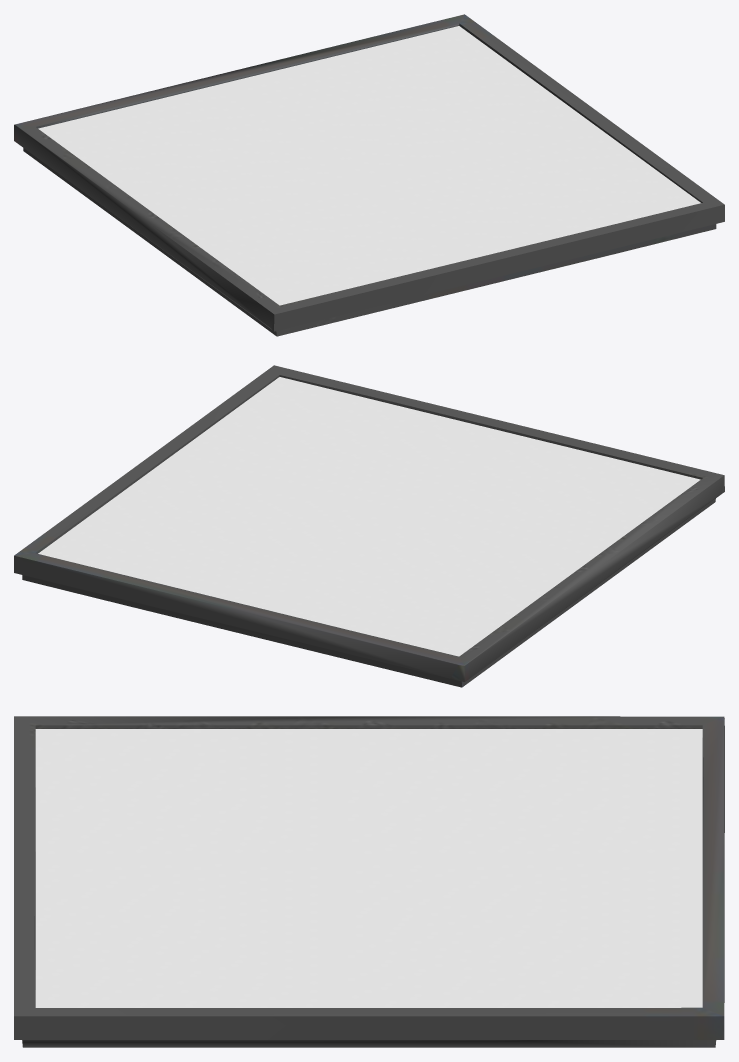
The model's file is 07 - LOMVIKEN Frame - black 32x32 cm.glb.
The picture shows the model from 3 angles, top to bottom: view 1: azimuth 30°, elevation 25°; view 2: azimuth 150°, elevation 25°; view 3: azimuth 270°, elevation 25°; orthographic projection. The views are drawn at different scales.
Parts seen in each view (by area): view 1: 2, ProcessedMeshNode; view 2: 2, ProcessedMeshNode; view 3: 2, ProcessedMeshNode.
Boxes of the visible parts, x1=… form: 2: x1=38, y1=26, x2=700, y2=305; ProcessedMeshNode: x1=14, y1=14, x2=724, y2=336; 2: x1=38, y1=377, x2=700, y2=656; ProcessedMeshNode: x1=14, y1=365, x2=724, y2=687; 2: x1=35, y1=729, x2=702, y2=1007; ProcessedMeshNode: x1=14, y1=716, x2=724, y2=1047.
Bounding box in the file's own units: 0.3343 × 0.0183 × 0.334.
2 materials, 2 textured.
